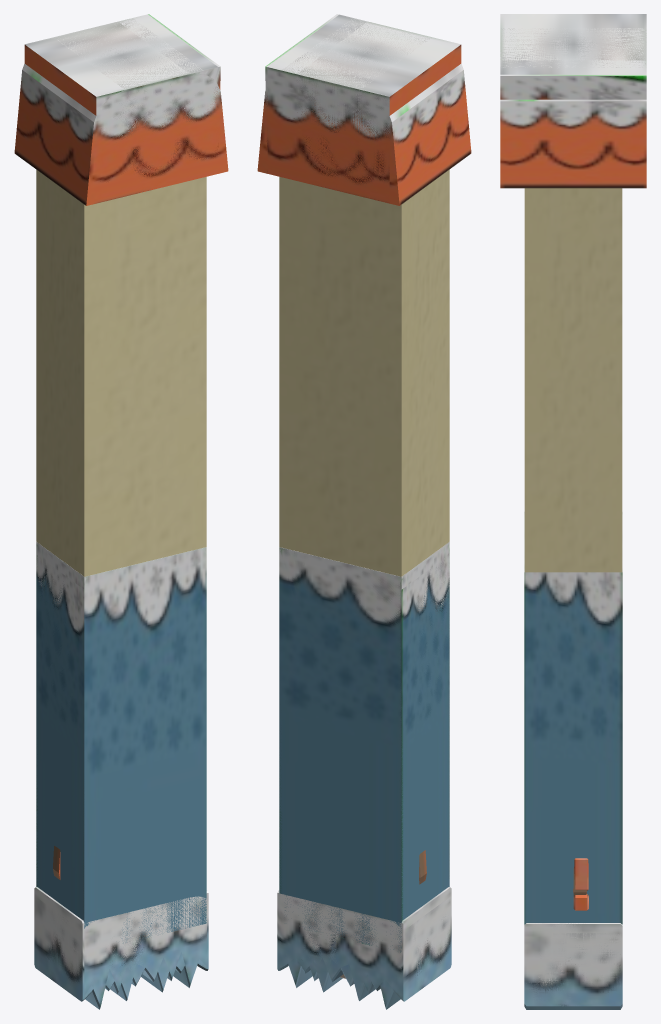
Rendered from Props.fbx.
3 renders of one model, left to right at view 1: azimuth 30°, elevation 25°; view 2: azimuth 150°, elevation 25°; view 3: azimuth 270°, elevation 25°, orthographic.
Parts seen in each view (by area): view 1: EdificioIzquierda, SueloIndividual, EdificioDerecha, EdificioCentro, SueloIzquierda, SueloDerecha, SueloCentro, HieloIndividual, HieloDerecha, HieloIzquierda, HieloCentro; view 2: EdificioIzquierda, EdificioDerecha, SueloCentro, SueloIzquierda, SueloDerecha, SueloIndividual, EdificioCentro, HieloIndividual, HieloDerecha, HieloIzquierda, HieloCentro; view 3: SueloCentro, EdificioCentro, EdificioDerecha, EdificioIzquierda, HieloIndividual, HieloDerecha, HieloCentro, SueloIzquierda, SueloDerecha, Ventana2.
Boxes of the visible parts, <box> form: EdificioIzquierda: <box>24,21,228,576</box>; SueloIndividual: <box>36,548,206,938</box>; EdificioDerecha: <box>14,14,217,576</box>; EdificioCentro: <box>26,14,220,561</box>; SueloIzquierda: <box>36,542,206,942</box>; SueloDerecha: <box>37,547,206,943</box>; SueloCentro: <box>84,547,206,927</box>; HieloIndividual: <box>41,896,206,1000</box>; HieloDerecha: <box>35,896,208,1009</box>; HieloIzquierda: <box>34,887,206,1001</box>; HieloCentro: <box>34,887,208,1001</box>; EdificioIzquierda: <box>257,22,461,576</box>; EdificioDerecha: <box>267,14,471,562</box>; SueloCentro: <box>279,547,401,944</box>; SueloIzquierda: <box>279,542,449,944</box>; SueloDerecha: <box>282,547,449,952</box>; SueloIndividual: <box>279,548,449,934</box>; EdificioCentro: <box>265,14,458,574</box>; HieloIndividual: <box>288,896,450,1000</box>; HieloDerecha: <box>277,893,425,1009</box>; HieloIzquierda: <box>289,887,451,1000</box>; HieloCentro: <box>277,887,451,1001</box>; SueloCentro: <box>524,512,622,924</box>; EdificioCentro: <box>500,14,646,572</box>; EdificioDerecha: <box>500,28,646,572</box>; EdificioIzquierda: <box>500,14,646,188</box>; HieloIndividual: <box>524,933,622,1009</box>; HieloDerecha: <box>524,923,622,1006</box>; HieloCentro: <box>524,923,622,1009</box>; SueloIzquierda: <box>524,585,622,922</box>; SueloDerecha: <box>524,570,622,922</box>; Ventana2: <box>574,858,588,890</box>.
Bounding box in the file's own units: 150 × 931 × 131.
